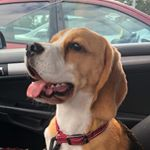puppy: (21, 23, 129, 150)
